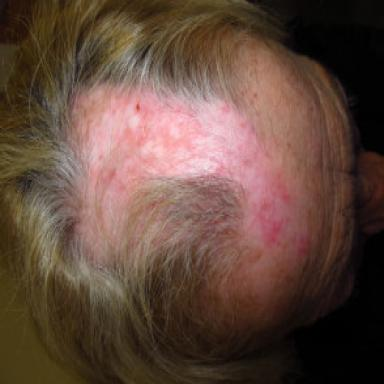Lupus-Erythematosus-Chronicus-Discoides: (76, 92, 311, 263)
